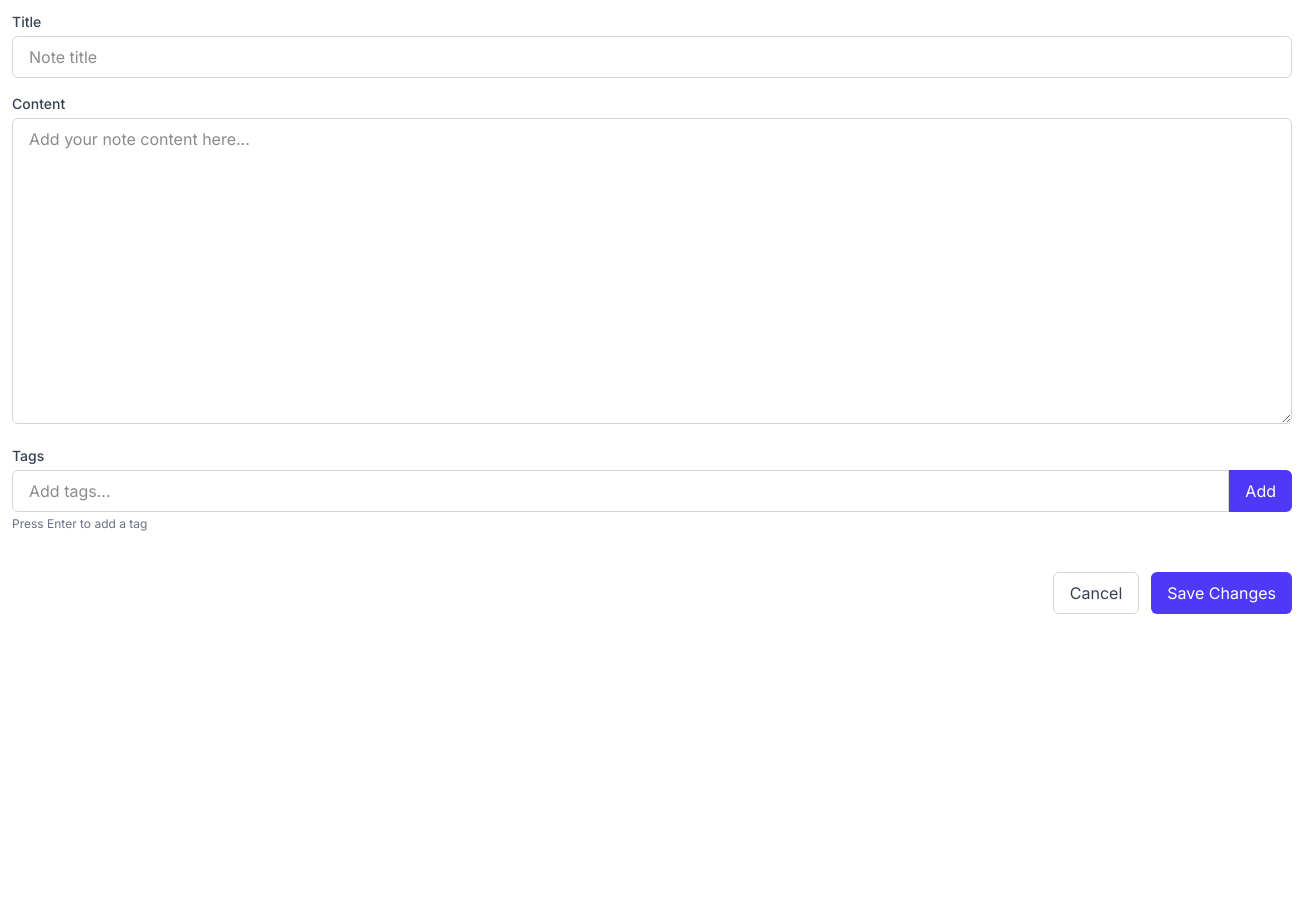
it: NoteEditor Component › should add a tag when pressing Enter in the tag input
Type "enter-tag" into the field labelled "Tags" at point(621, 491), box [12,470,1229,512]
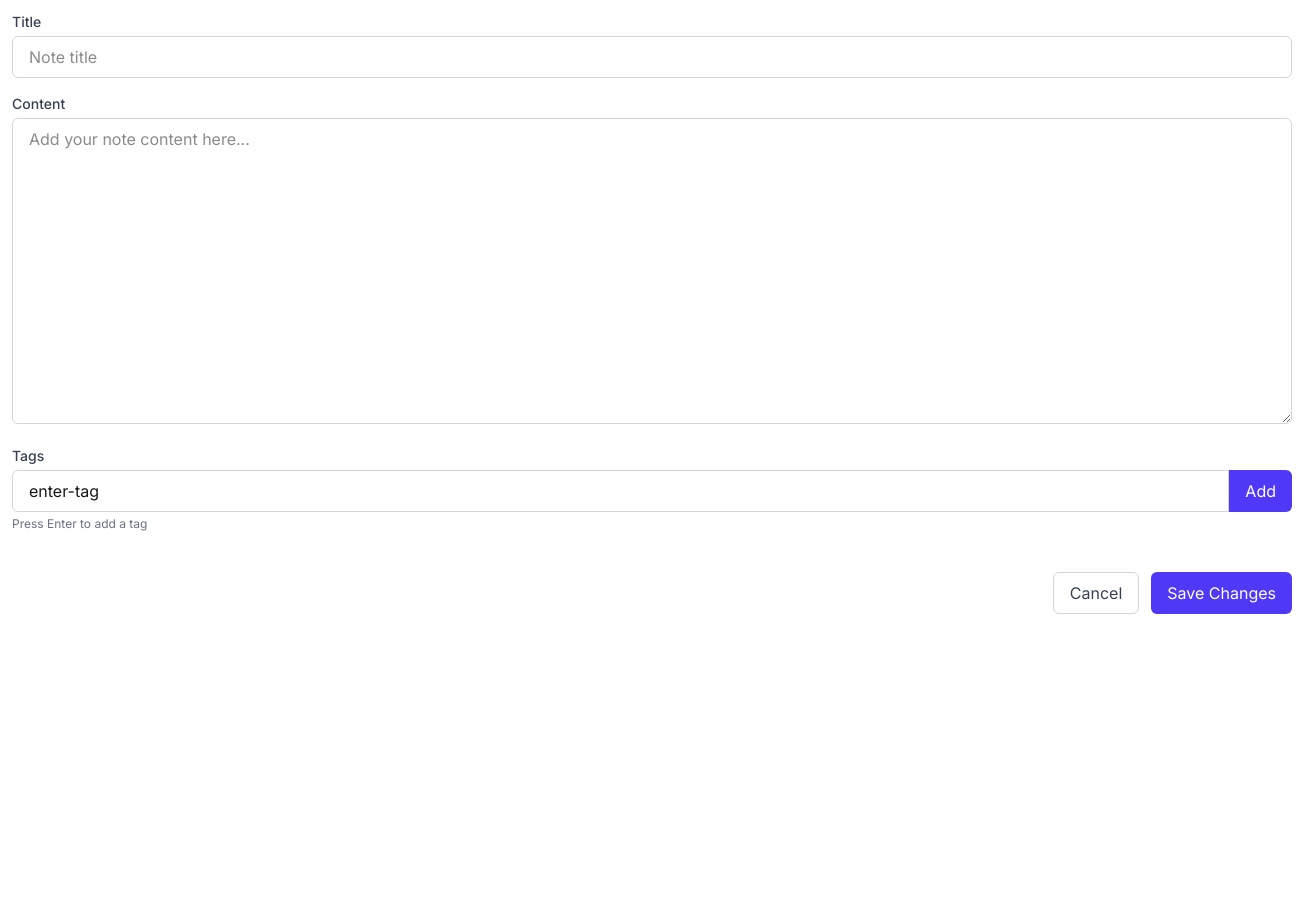
Press Enter in the field labelled "Tags", box [12,470,1229,512]
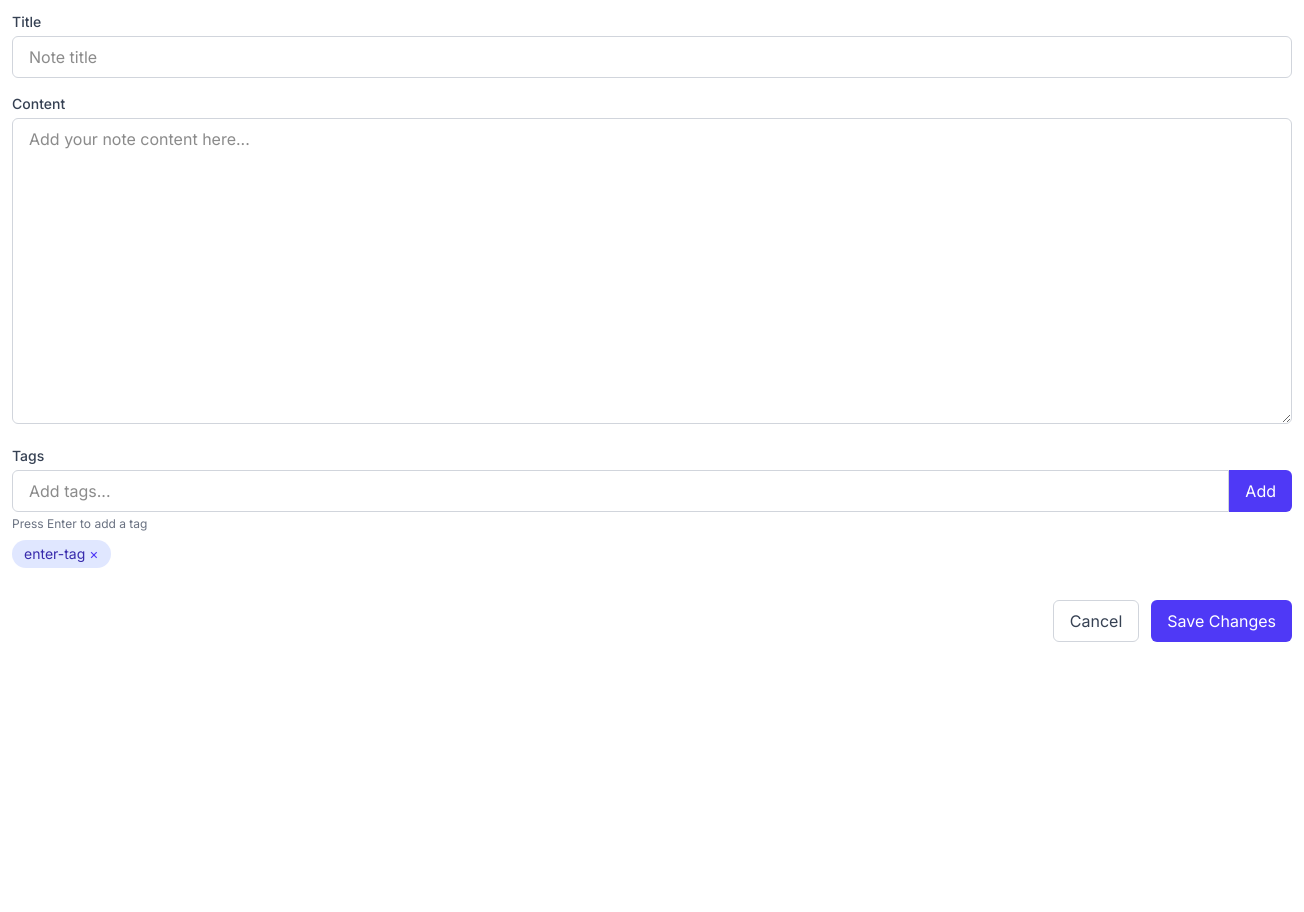
Expected: the text "enter-tag" is shown, [24,545,85,562]
